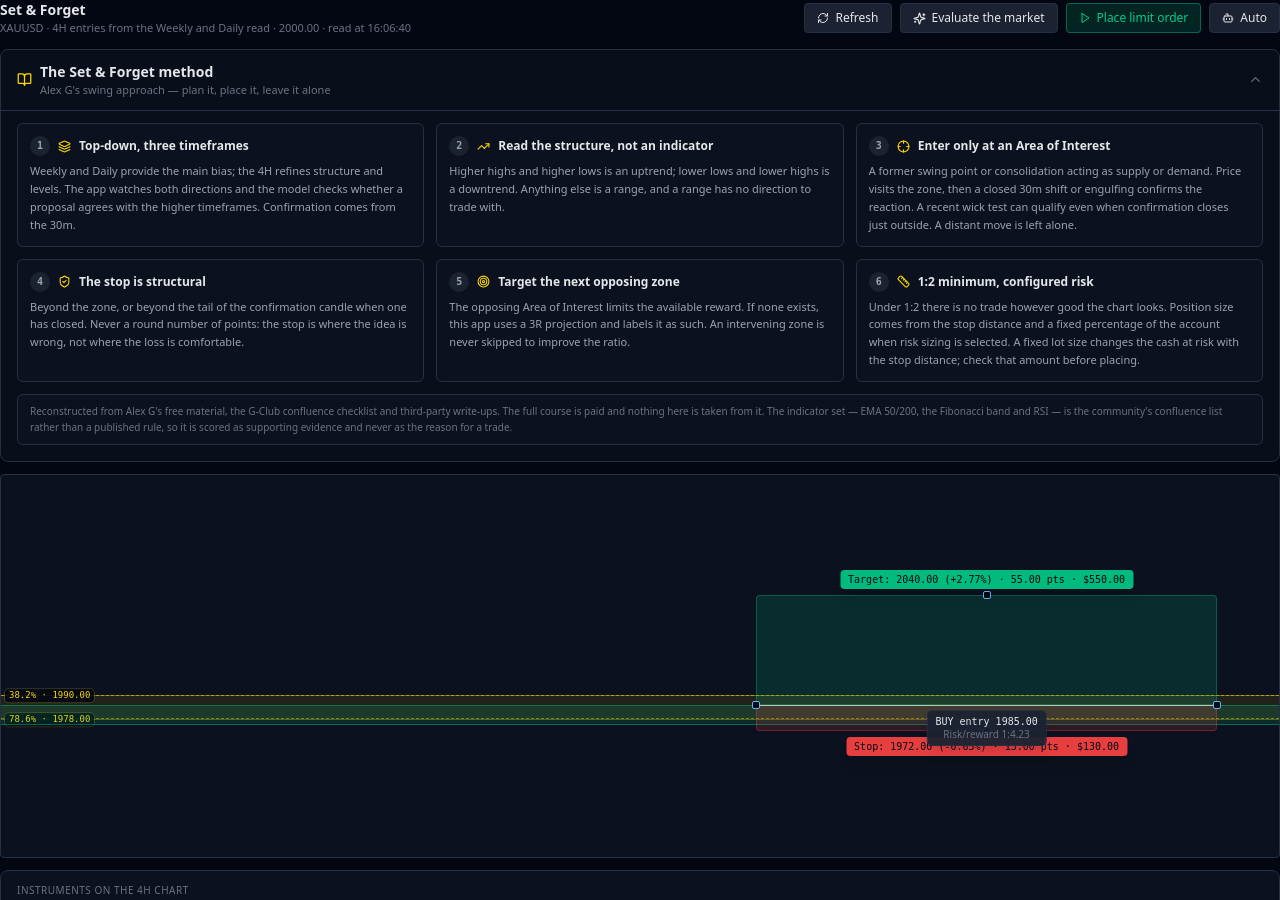
Test: placing the trade › asks before it places anything, naming every number
The image size is (1280, 900).
Click the button "Place limit order" at coordinates (1133, 18), box [1066,3,1201,33]
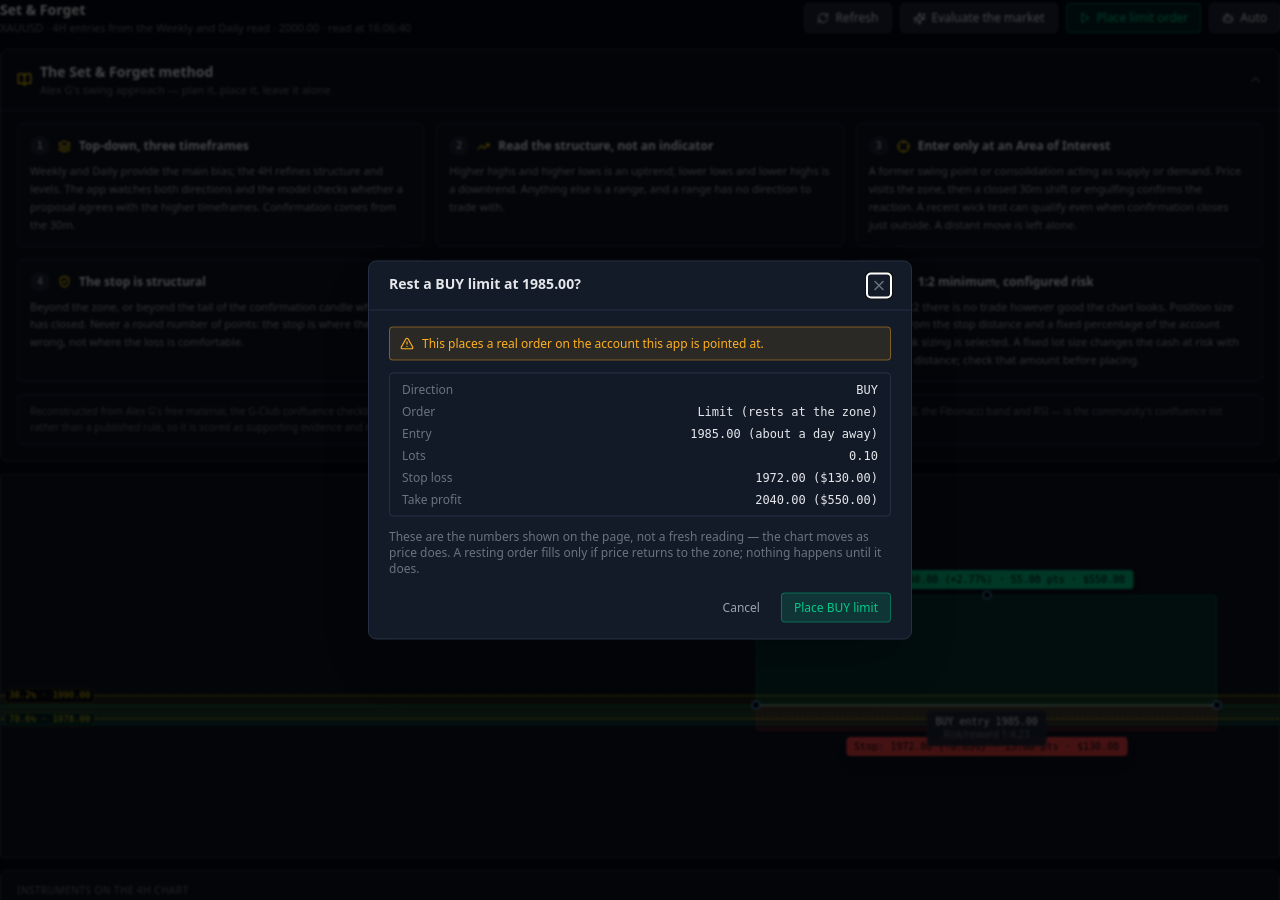
Expected: the heading "Rest a BUY limit at 1985.00?" is shown, [389,274,581,294]
Expected: the text "1972.00 ($130.00)" is shown, [755,470,878,484]
Expected: the text "2040.00 ($550.00)" is shown, [755,492,878,506]
